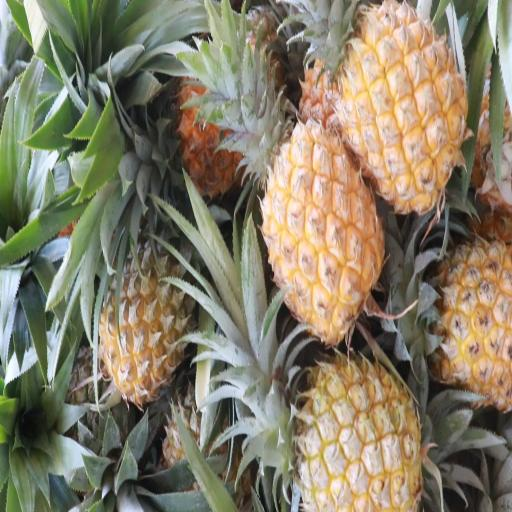Pineapple - v8 v1: (250, 122, 384, 342), (325, 16, 468, 216), (275, 334, 423, 512), (386, 243, 512, 405), (98, 217, 188, 406)
